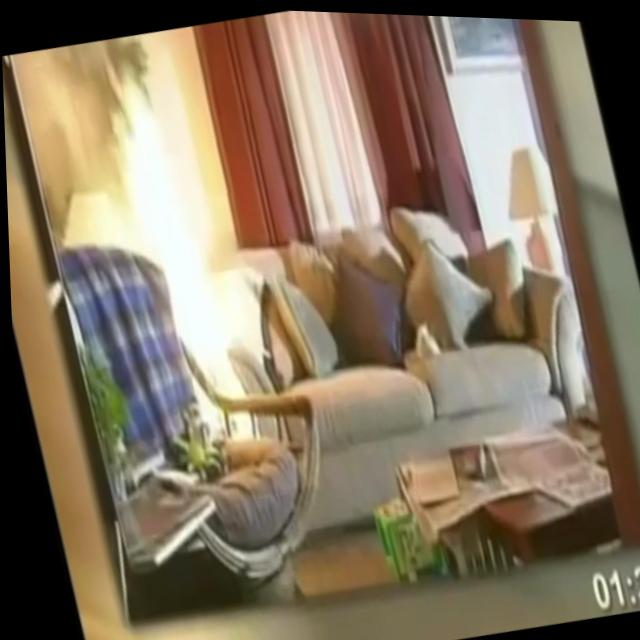fire: (79, 36, 276, 453)
